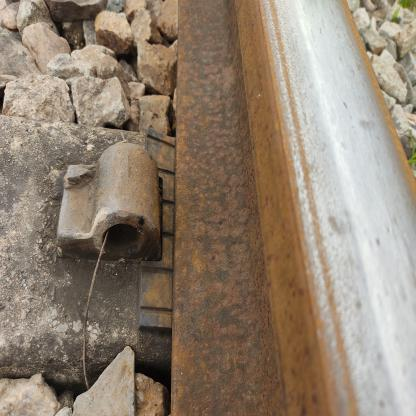Defective: (8, 108, 204, 336)
